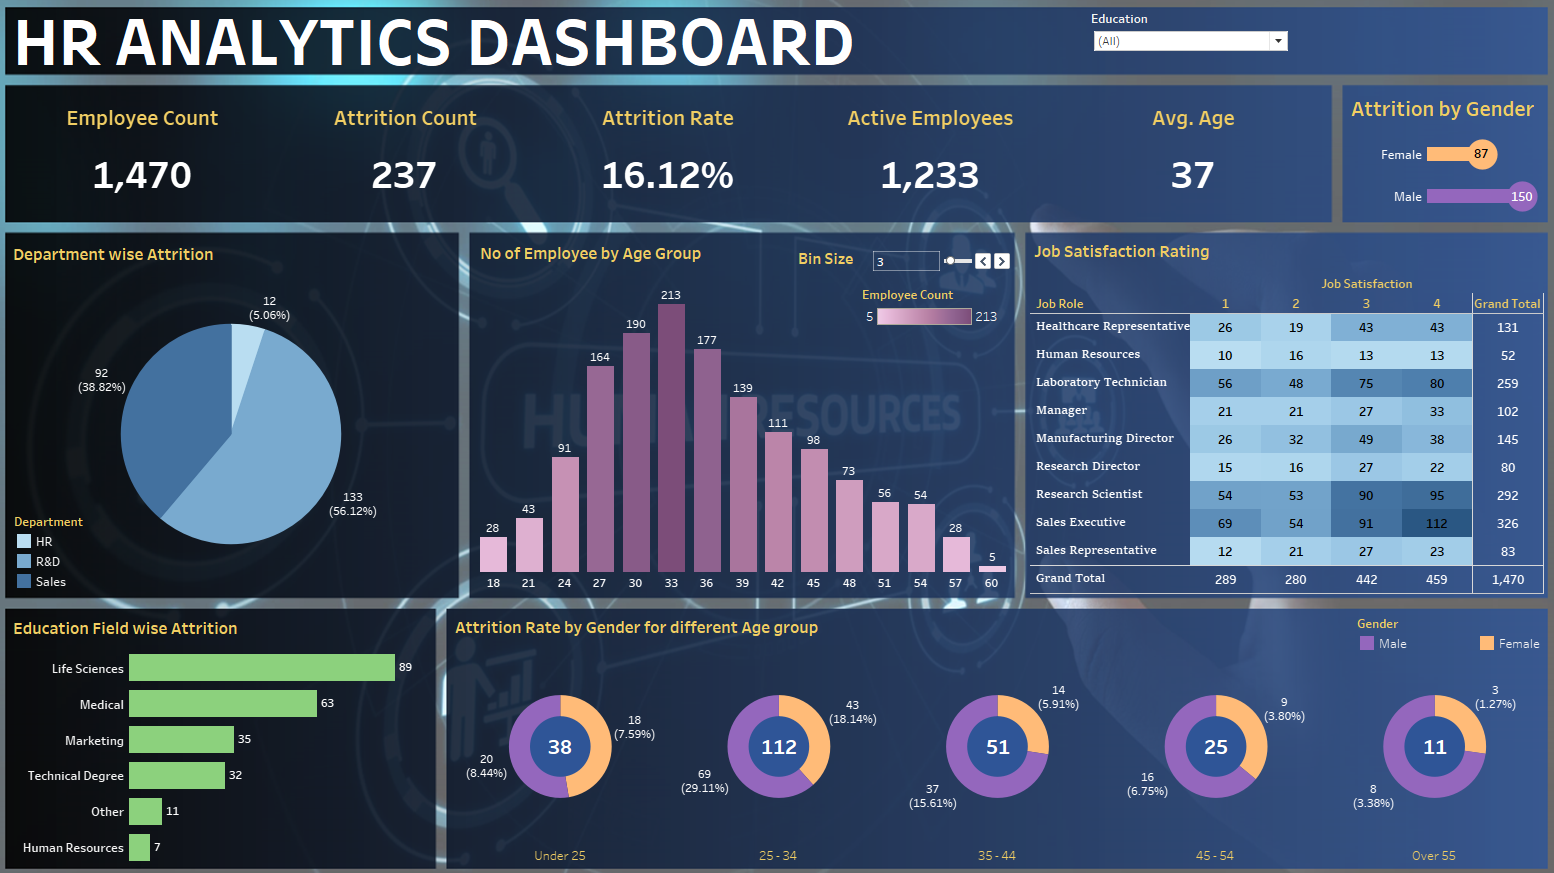

The dashboard page shown, as its layout file describes it:
{"tool":"tableau","page":{"name":"HR ANALYTICS DASHBOARD","canvas":[1580,900],"ordinal":0},"visuals":[{"type":"image","param":"Image/Background.PNG","box":[8,8,1564,884]},{"type":"text","box":[24,22,858,58]},{"type":"filter","title":"Department wise Attrition","param":"[federated.1qmbcaq1jnx4pz1fs7xpx02wdkgd].[none:Education:nk]","box":[1105,22,200,61]},{"type":"worksheet","title":"Attrition by Gender","mark":"Automatic","rows":["Gender"],"cols":["Calculation_550846591614644224","Calculation_550846591614644224"],"box":[1361,102,196,127]},{"type":"worksheet","title":"KPI","mark":"Automatic","box":[25,103,1314,125]},{"type":"worksheet","title":"Job Satisfaction Rating","mark":"Square","rows":["Job Role"],"cols":["Job Satisfaction"],"box":[1044,248,514,358]},{"type":"worksheet","title":"No of Employee by Age Group","mark":"Automatic","rows":["Employee Count"],"cols":["Age (bin)"],"box":[490,250,534,354]},{"type":"worksheet","title":"Department wise Attrition","mark":"Pie","box":[23,251,444,353]},{"type":"parameter","param":"[Parameters].[Parameter 1]","box":[812,260,215,32]},{"type":"legend","title":"No of Employee by Age Group","param":"[federated.1qmbcaq1jnx4pz1fs7xpx02wdkgd].[sum:Employee Count:qk]","box":[876,298,140,51]},{"type":"legend","title":"Department wise Attrition","param":"[federated.1qmbcaq1jnx4pz1fs7xpx02wdkgd].[none:Department:nk]","box":[28,525,91,78]},{"type":"worksheet","title":"Attrition Rate by Gender for different Age group","mark":"Pie","rows":["Calculation_550846591652995077","Calculation_550846591652995077"],"cols":["CF_age band"],"box":[465,624,1093,253]},{"type":"worksheet","title":"Education Field wise Attrition","mark":"Automatic","rows":["Education Field"],"cols":["Calculation_550846591614644224"],"box":[23,625,422,252]}]}

Visuals, with their boxes in screenshot pixels (x1, y1, x2, y2), scaled from the page's 1580x900 canvas onto the 1554x873 screenshot:
image: bbox(8, 8, 1546, 865)
text: bbox(24, 21, 867, 78)
"Department wise Attrition" filter: bbox(1087, 21, 1284, 81)
"Attrition by Gender" worksheet: bbox(1339, 99, 1531, 222)
"KPI" worksheet: bbox(25, 100, 1317, 221)
"Job Satisfaction Rating" worksheet (Square marks): bbox(1027, 241, 1532, 588)
"No of Employee by Age Group" worksheet: bbox(482, 242, 1007, 586)
"Department wise Attrition" worksheet (Pie marks): bbox(23, 243, 459, 586)
parameter: bbox(799, 252, 1010, 283)
"No of Employee by Age Group" legend: bbox(862, 289, 999, 339)
"Department wise Attrition" legend: bbox(28, 509, 117, 585)
"Attrition Rate by Gender for different Age group" worksheet (Pie marks): bbox(457, 605, 1532, 851)
"Education Field wise Attrition" worksheet: bbox(23, 606, 438, 851)
